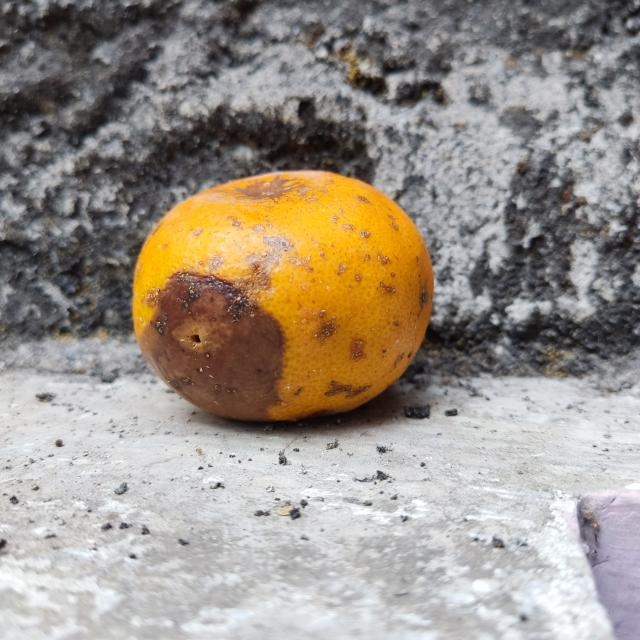agrume: (131, 168, 436, 423)
